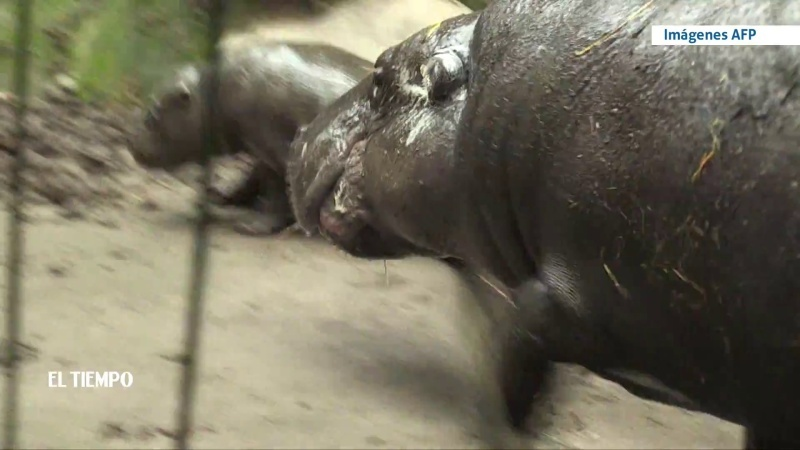hipopotamo: (280, 1, 797, 448), (115, 31, 397, 257)
